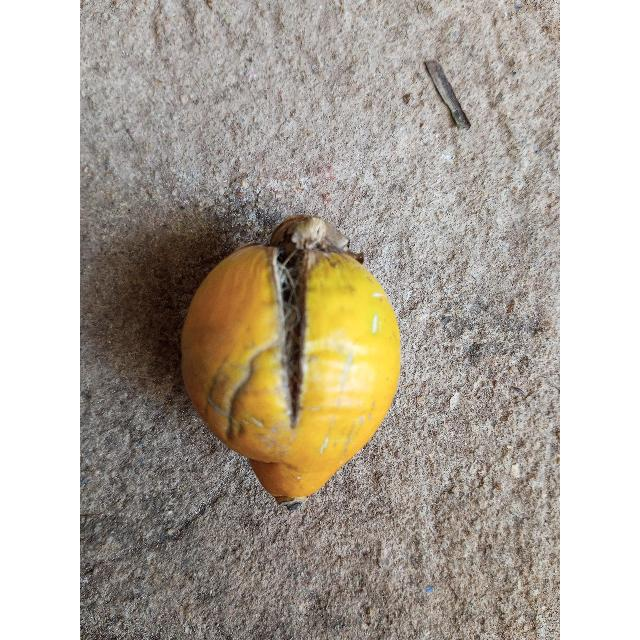damaged: (181, 216, 402, 505)
